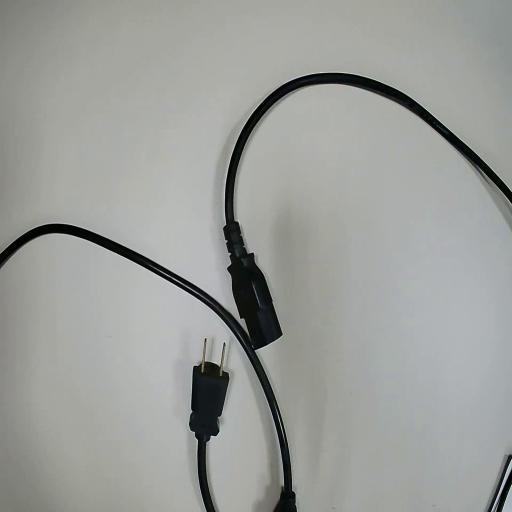wire: (1, 224, 293, 511), (223, 72, 512, 343), (190, 363, 227, 511)
